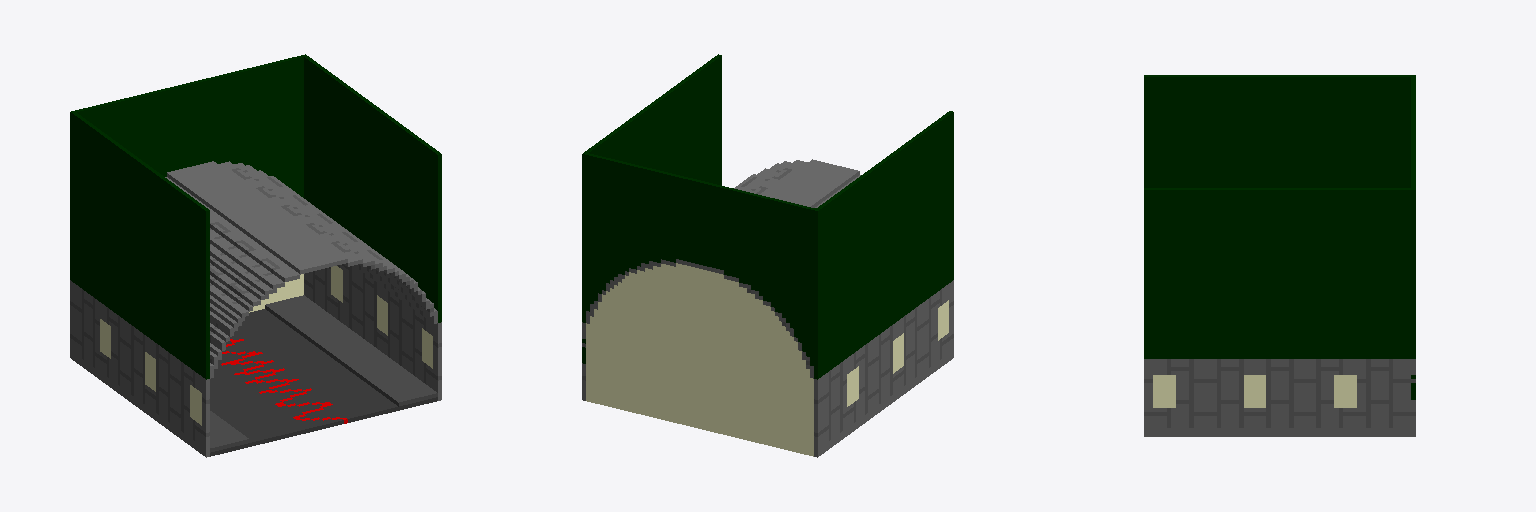
The picture shows the model from 3 angles: view 1: azimuth 30°, elevation 25°; view 2: azimuth 150°, elevation 25°; view 3: azimuth 270°, elevation 25°; orthographic projection.
Visible parts, largest first — view 1: object 1; view 2: object 1; view 3: object 1.
Part boxes in pixels (left/top/right/bottom): object 1: left=70, top=54, right=441, bottom=457; object 1: left=582, top=54, right=953, bottom=457; object 1: left=1144, top=75, right=1415, bottom=436.
Bounding box in the file's own units: 6 × 6 × 6.
Materials: 1 (1 with a texture image).